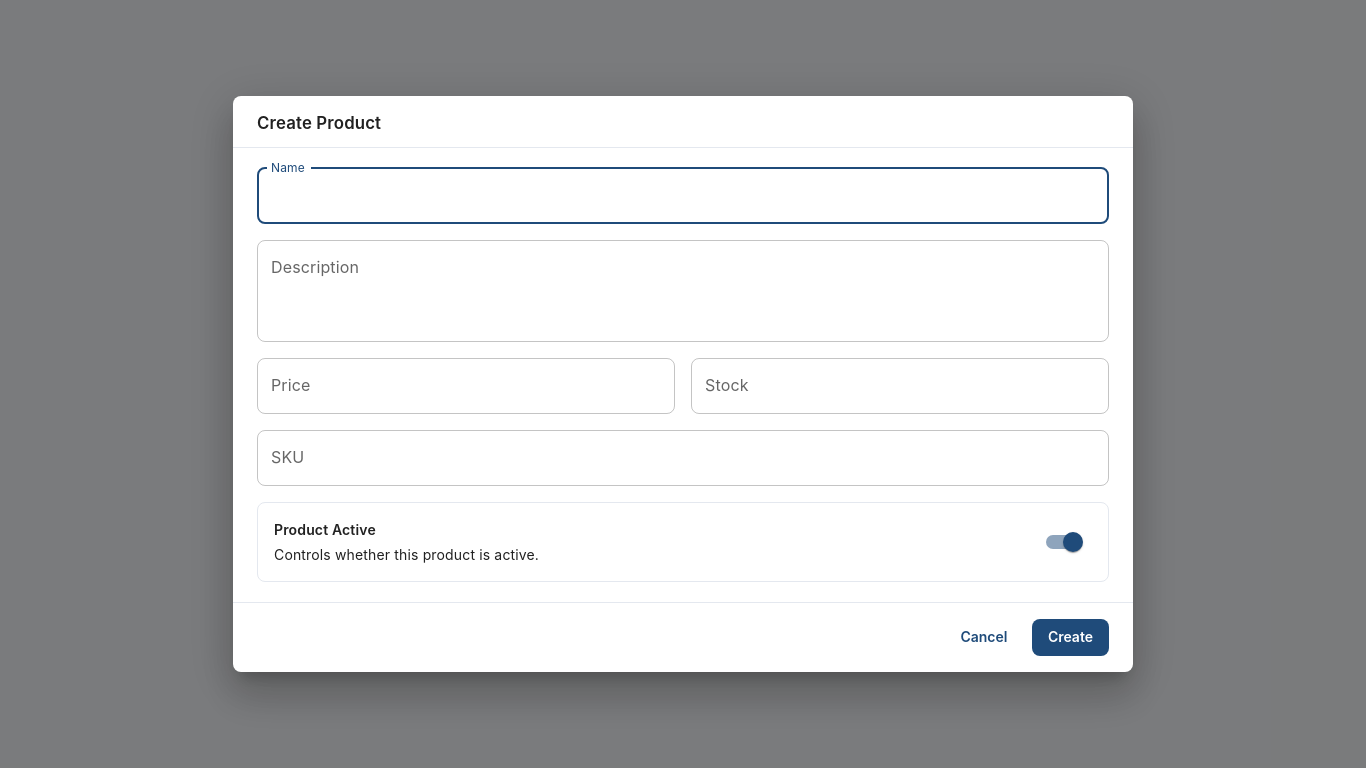
ProductFormDialog › rejects lowercase SKU without auto-uppercasing
In the field labelled "Name": (683, 196) [257,168,1109,224], type "Brake Pad"
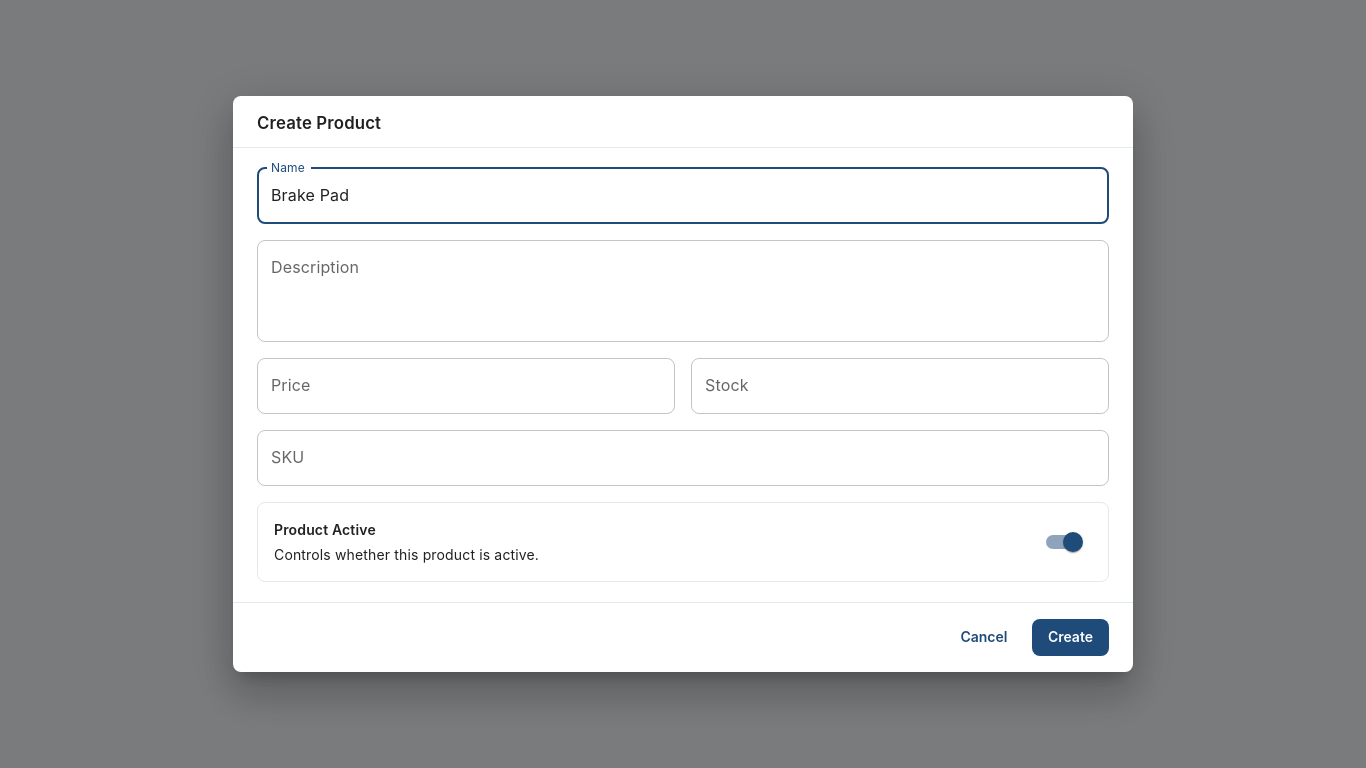
In the text box labelled "Description": (683, 291) [271,256,1095,326], type "Front brake pad"
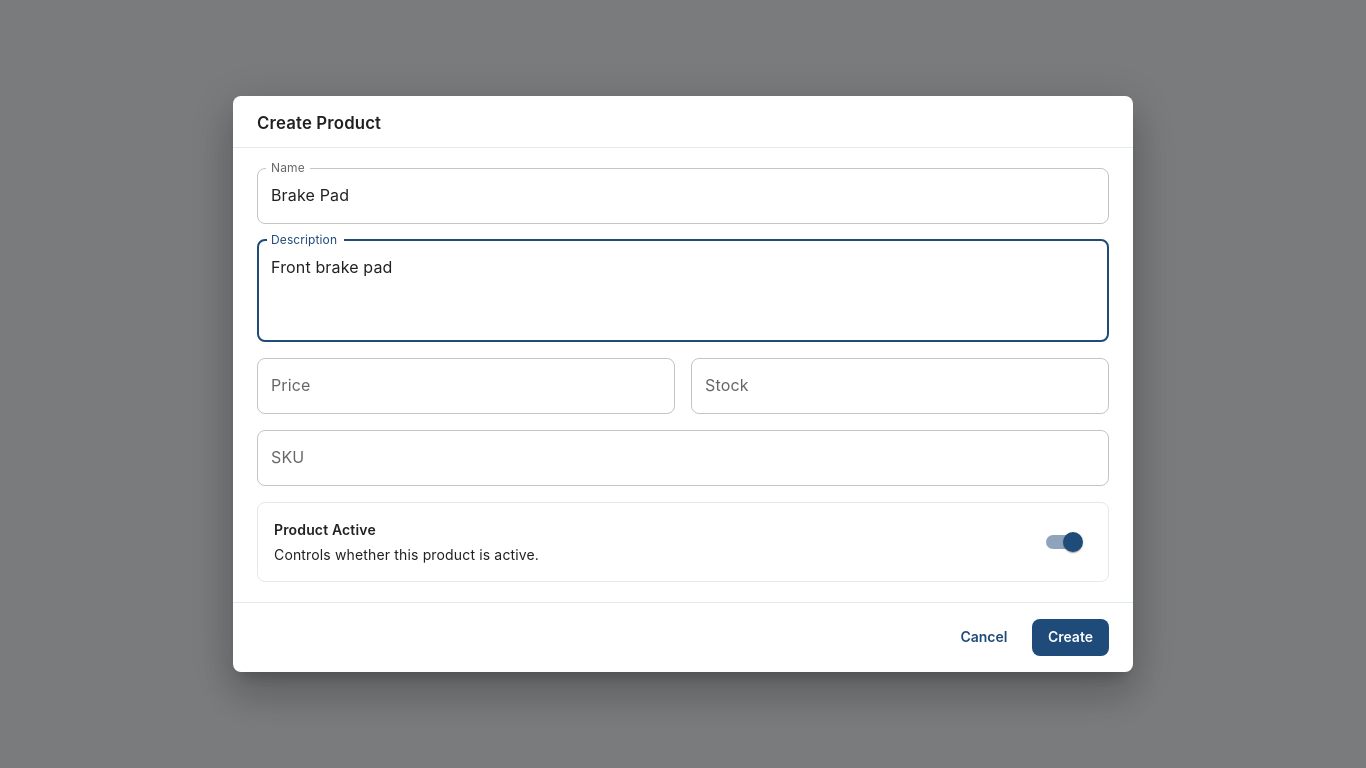
In the field labelled "Price": (466, 386) [257,358,675,414], type "45.50"
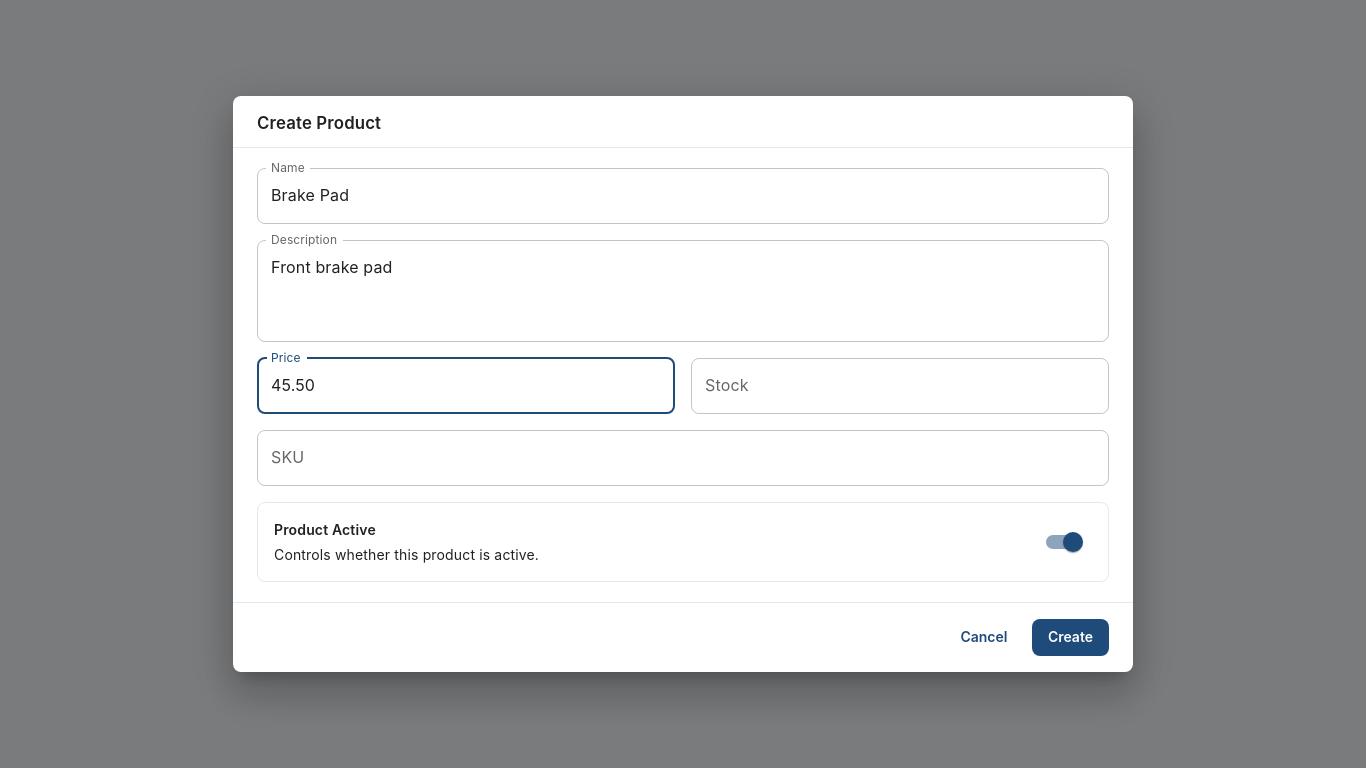
In the field labelled "Stock": (900, 386) [691,358,1109,414], type "8"
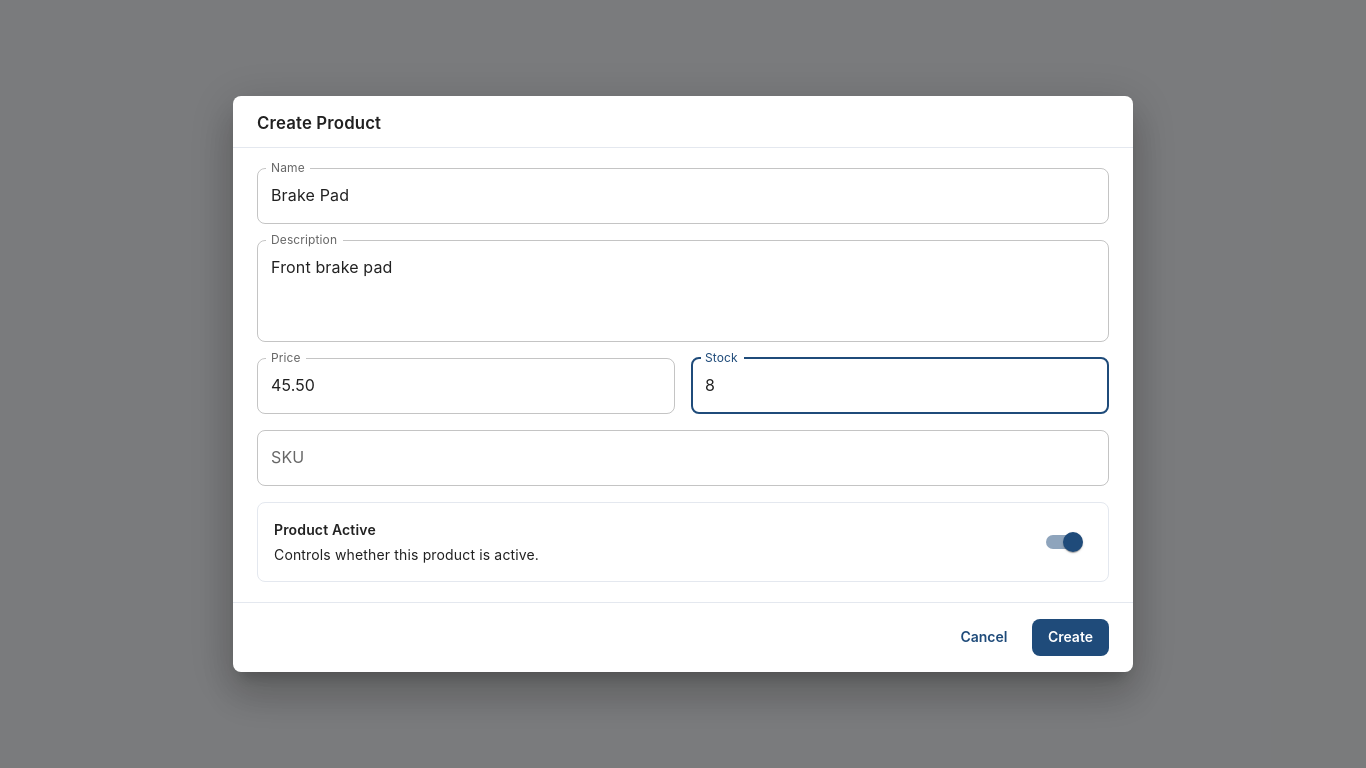
In the field labelled "SKU": (683, 458) [257,430,1109,486], type "brake-pad-001"
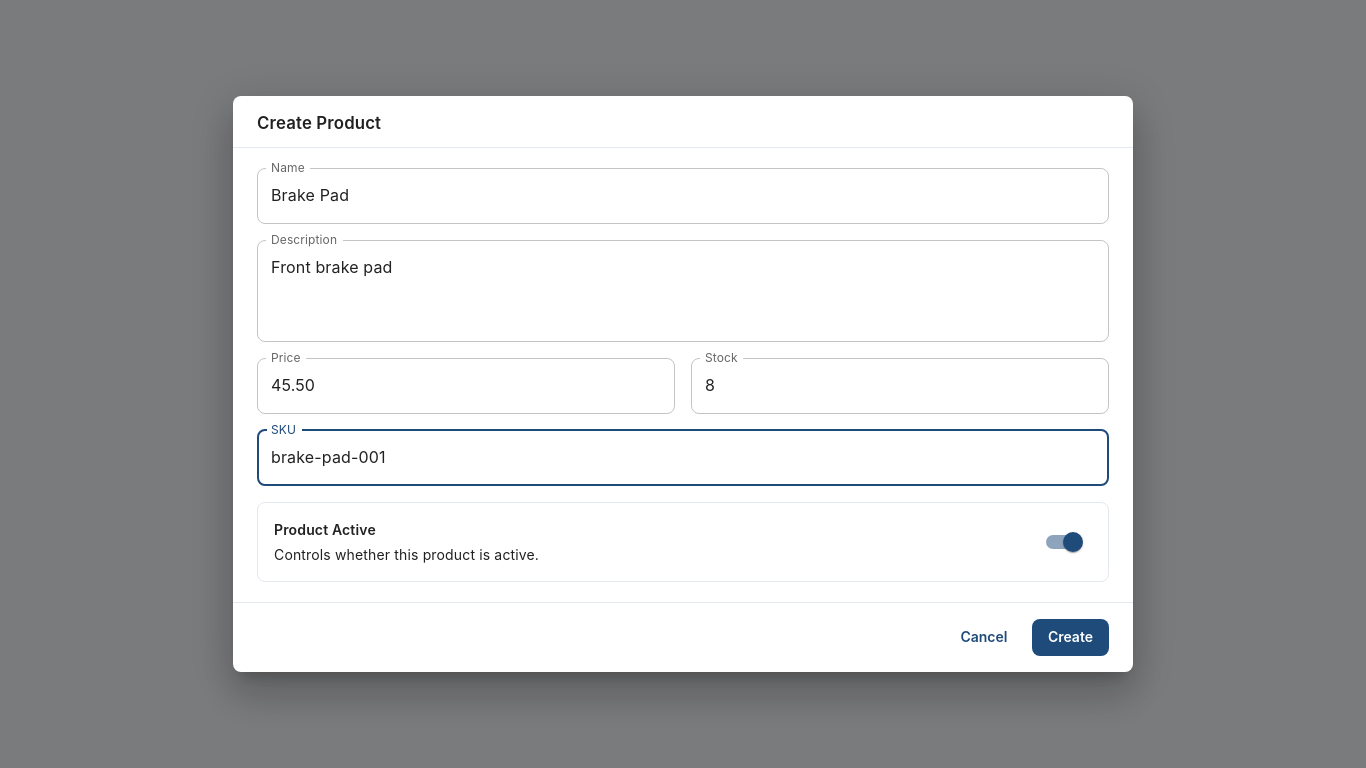
Click the button "Create": click(1070, 637) [1032,619,1109,656]
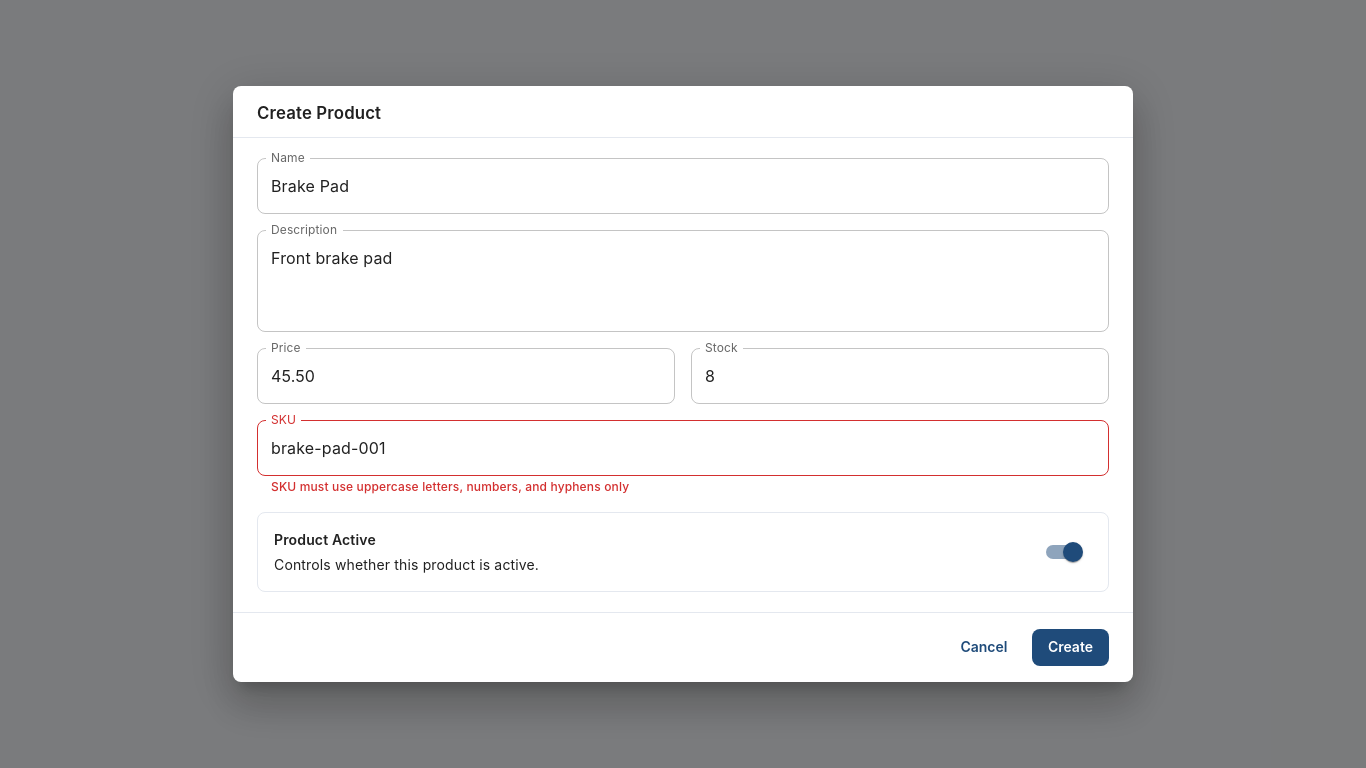
Result: the text "SKU must use uppercase letters, numbers, and hyphens only" is shown at [271,479,629,494]
